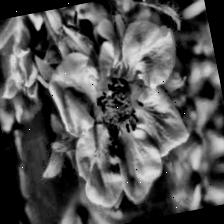Blossom Blight: (82, 61, 160, 150)
